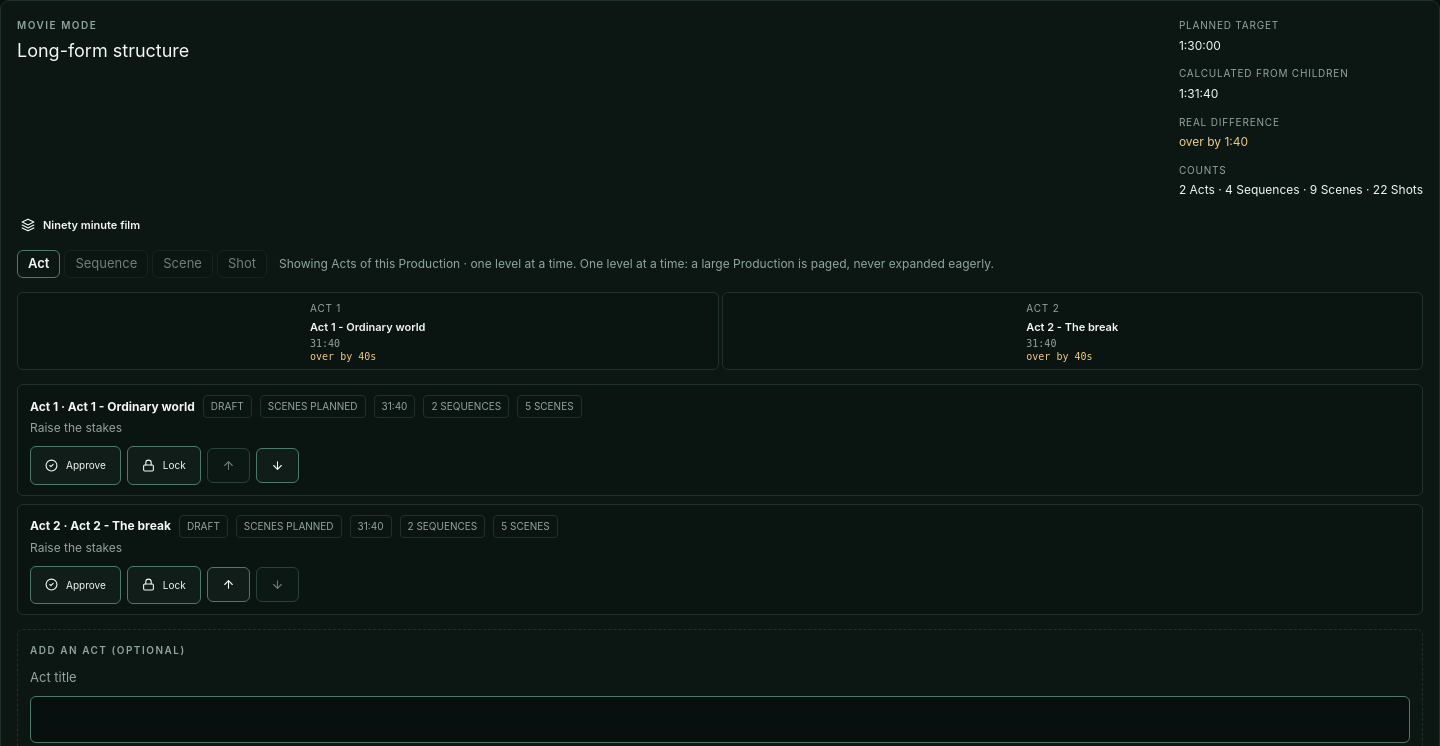
Test: Movie Mode › reports a locked Act failure instead of pretending the change applied
What coordinates should you click on to do the following:
click the button labelled "Act 1 Act 1 - Ordinary world 31:40 over by 40s"
I would click on:
 (368, 331)
Its box is top-left (17, 292), bottom-right (718, 370).
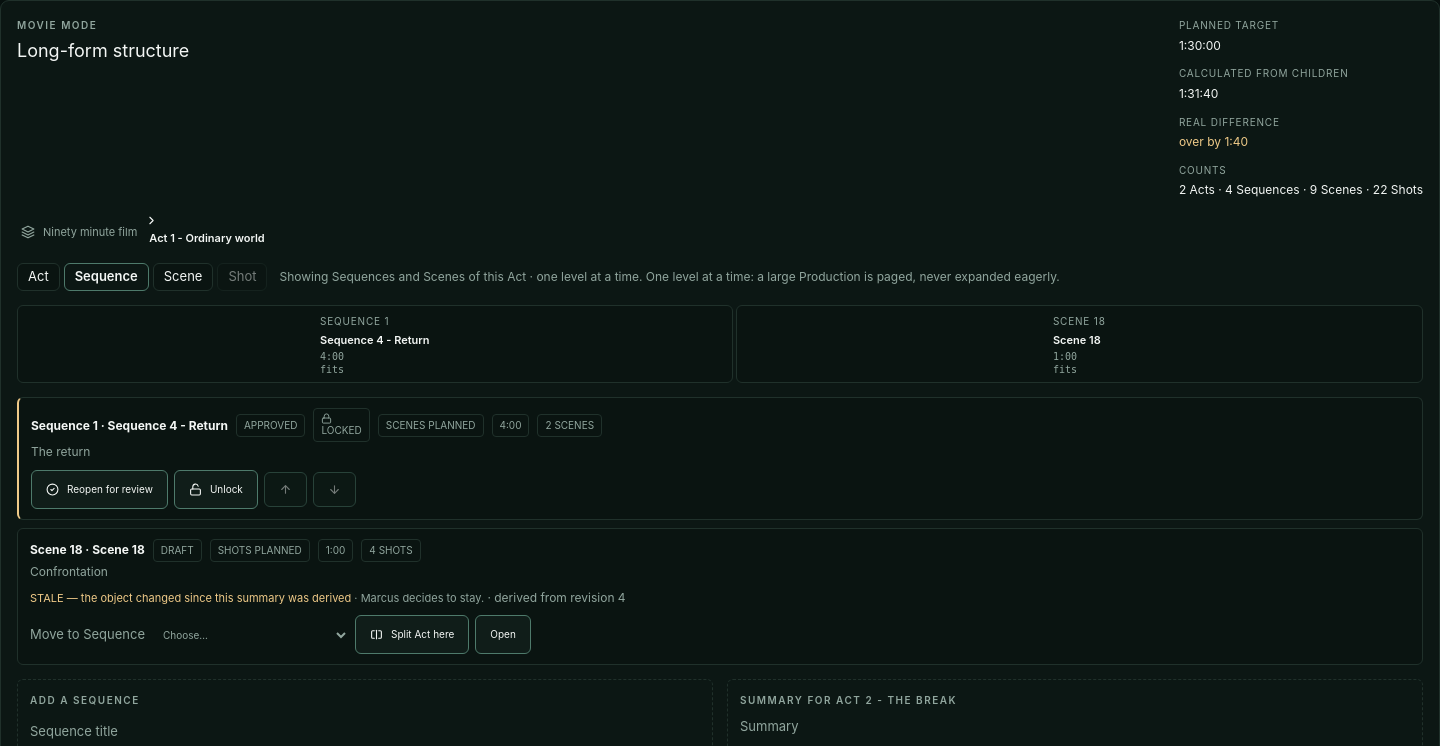
Expected: the text "Sequence 1 · Sequence 4 - Return" is shown, top-left (31, 416), bottom-right (228, 435)
Expected: the button "Reopen for review" is shown
What coordinates should you click on to do the following:
click the button "Reopen for review"
I would click on:
 (99, 489)
Its box is top-left (31, 470), bottom-right (168, 509).
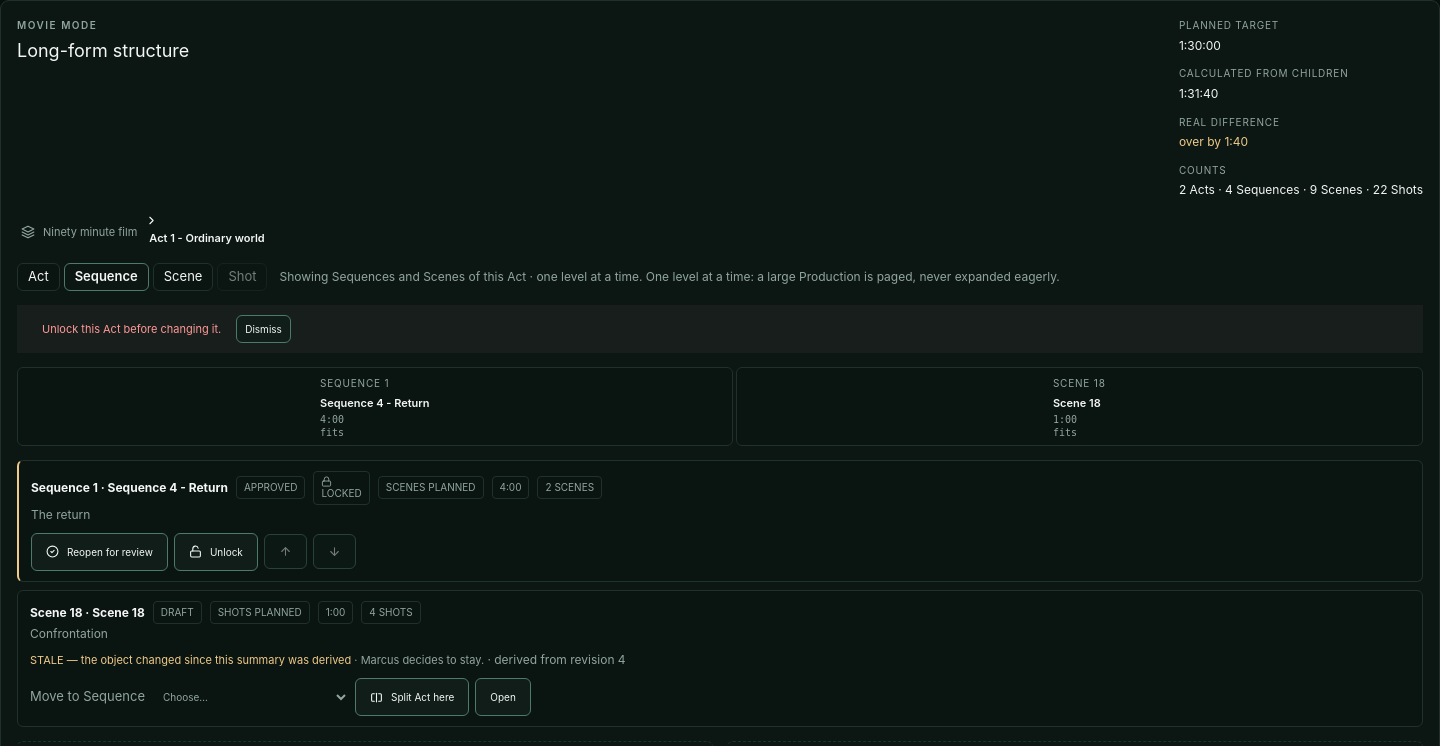
Expected: the message "Unlock this Act before changing it. Dismiss" is shown, top-left (17, 305), bottom-right (1423, 353)
